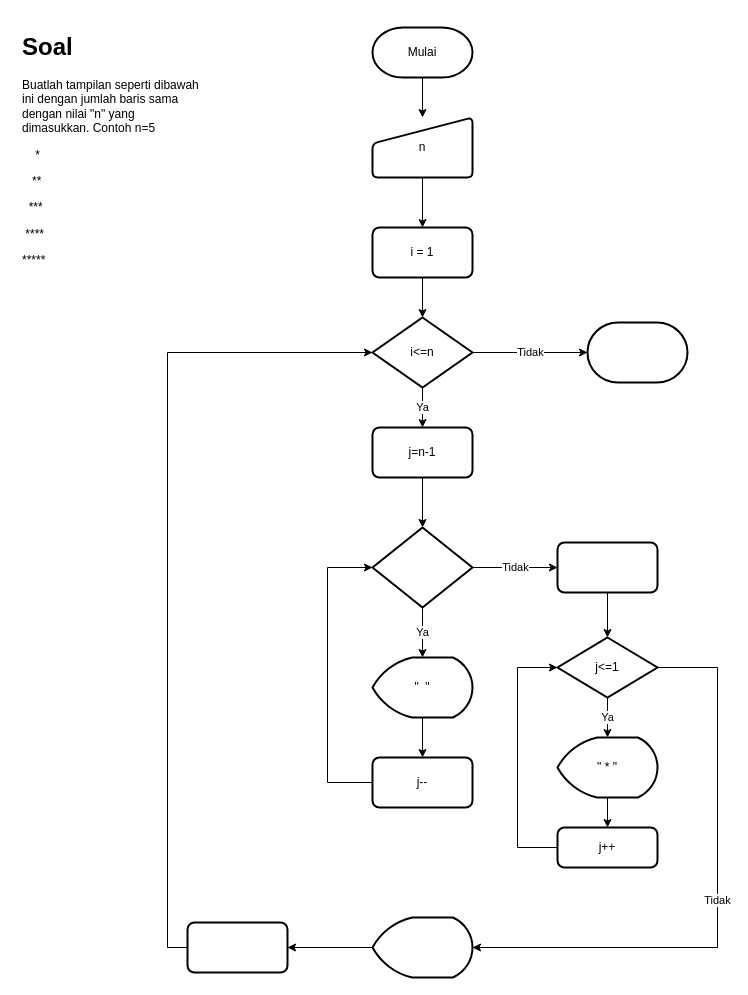
Image size: 748x995. Some labels were removed from this diagram. The centre of each missing label's shape, as x and y in pixels:
"/n" goes at point (422, 947).
"i++" goes at point (237, 947).
"j = 1" goes at point (607, 567).
"j>=i" goes at point (422, 567).
"Selesai" goes at point (637, 352).
